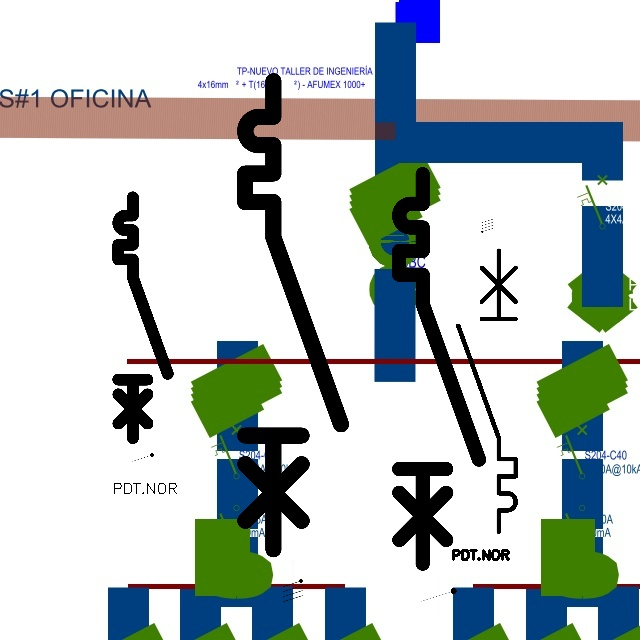interruptor_termomagnetico: (233, 69, 353, 561), (389, 164, 489, 574), (451, 243, 523, 539), (112, 191, 174, 444)
